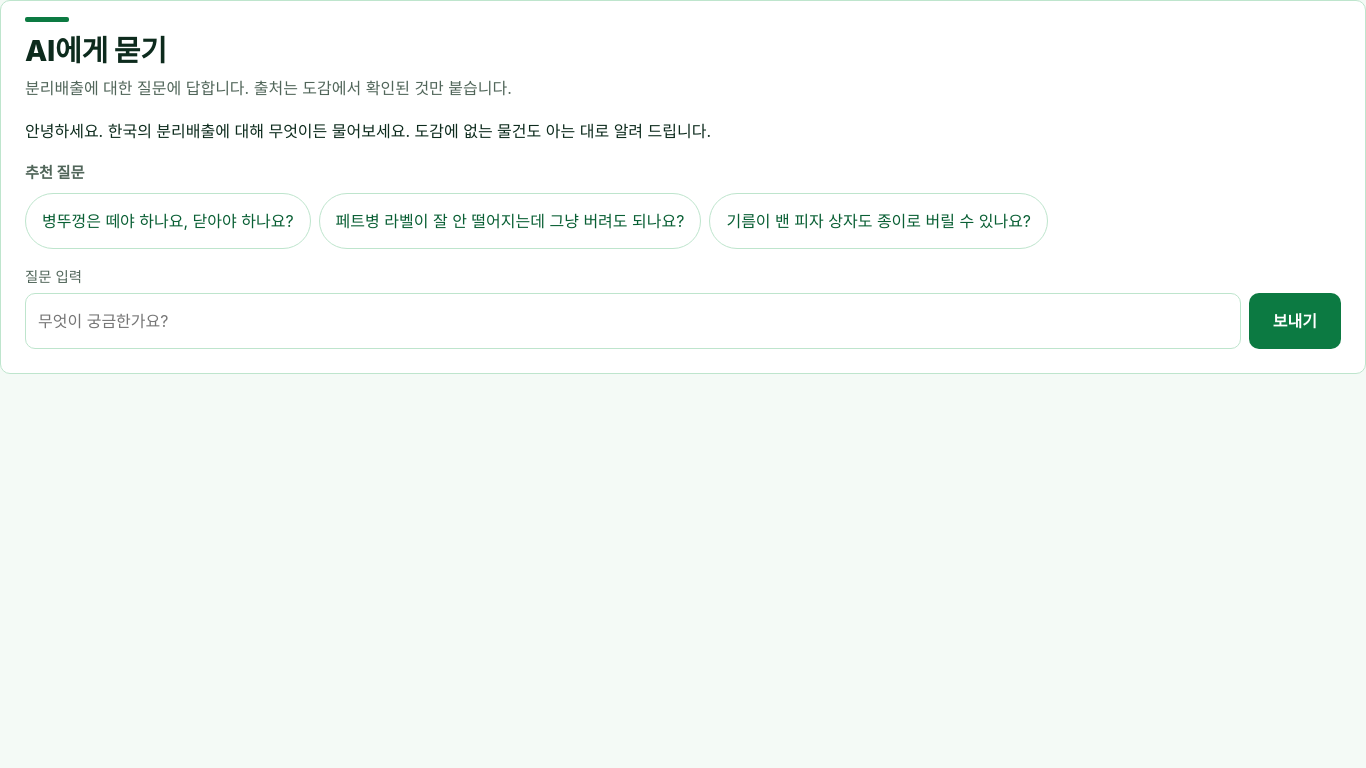
it: ChatSection › puts a new question in the slot that was used and leaves the rest
Click the button "병뚜껑은 떼야 하나요, 닫아야 하나요?": (168, 221) [25,193,311,249]
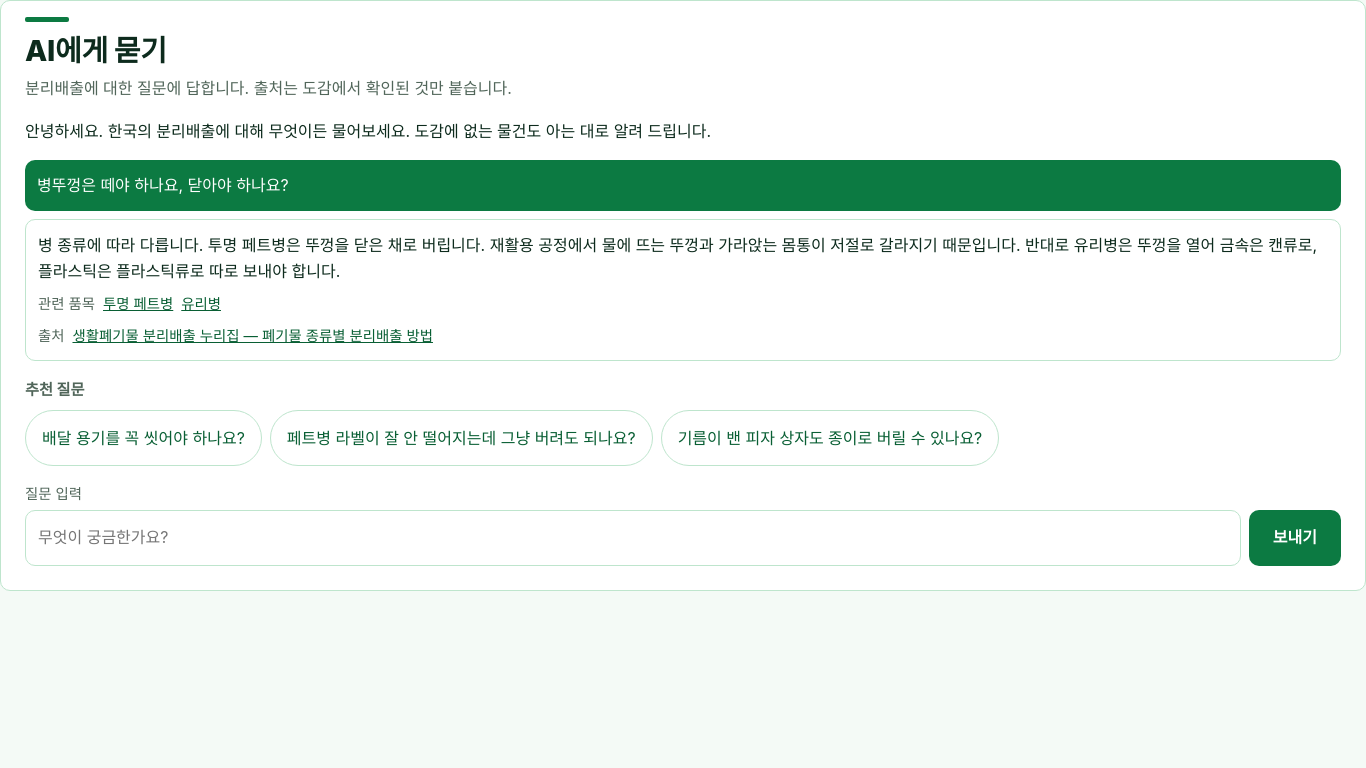
Expected: the button "페트병 라벨이 잘 안 떨어지는데 그냥 버려도 되나요?" is shown, [270,410,653,466]
Now the button "배달 용기를 꼭 씻어야 하나요?" is shown, box [25,410,262,466]
